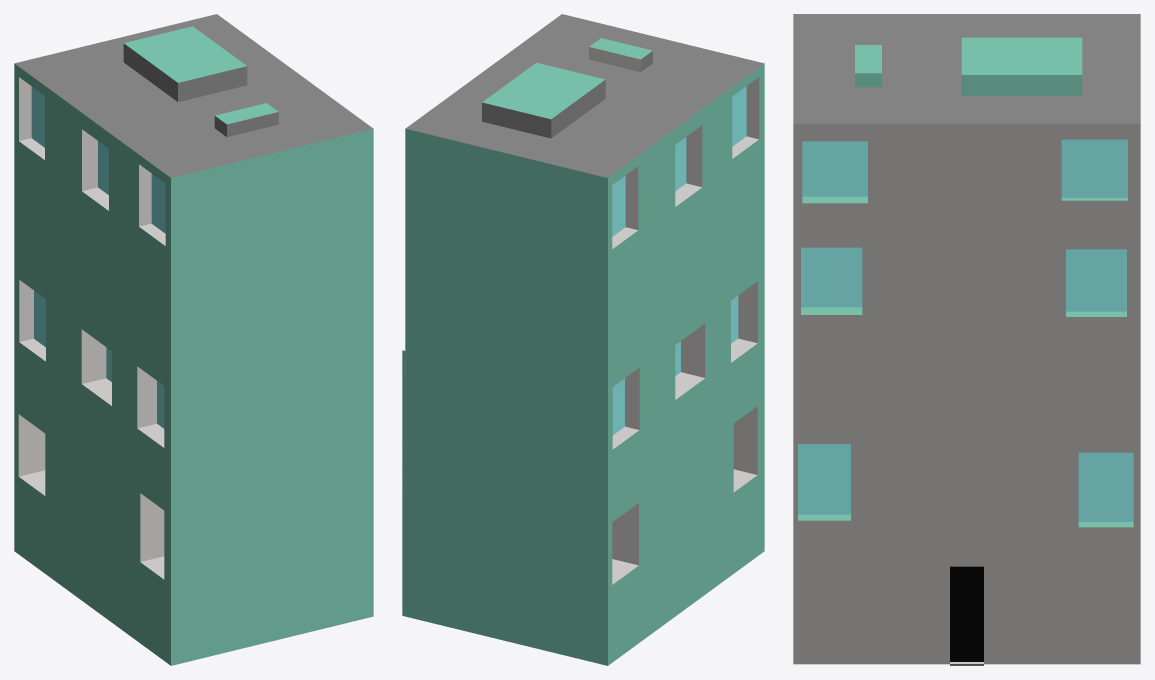
Rendered from dom1_3.fbx.
3 renders of one model, left to right at view 1: azimuth 30°, elevation 25°; view 2: azimuth 150°, elevation 25°; view 3: azimuth 270°, elevation 25°, orthographic. The views are drawn at different scales.
Visible parts, largest first — view 1: Mesh01; view 2: Mesh01; view 3: Mesh01.
Part boxes in pixels (left/top/right/bottom): Mesh01: left=14, top=14, right=373, bottom=665; Mesh01: left=402, top=14, right=764, bottom=665; Mesh01: left=793, top=14, right=1140, bottom=665.
Size of the model in its own units: 5938 by 14038 by 7842.
